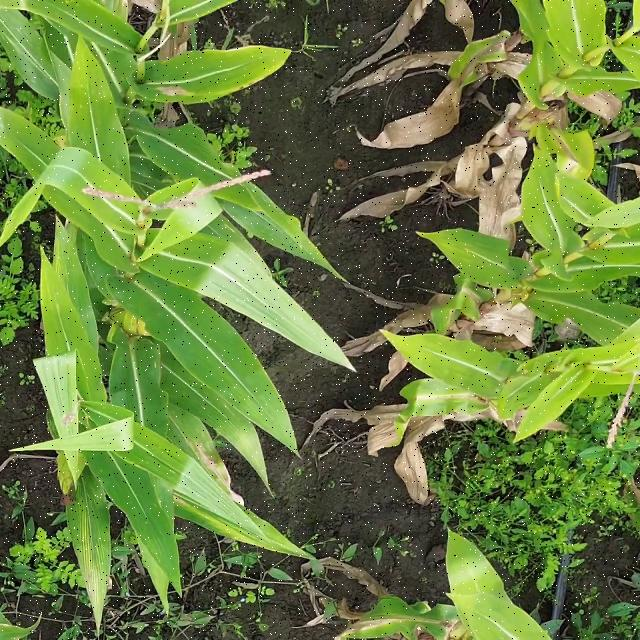northern-leaf-blight: (513, 114, 636, 213)
southern-leaf-blight: (82, 434, 221, 566), (54, 72, 166, 194), (233, 184, 339, 281), (382, 372, 489, 442)
